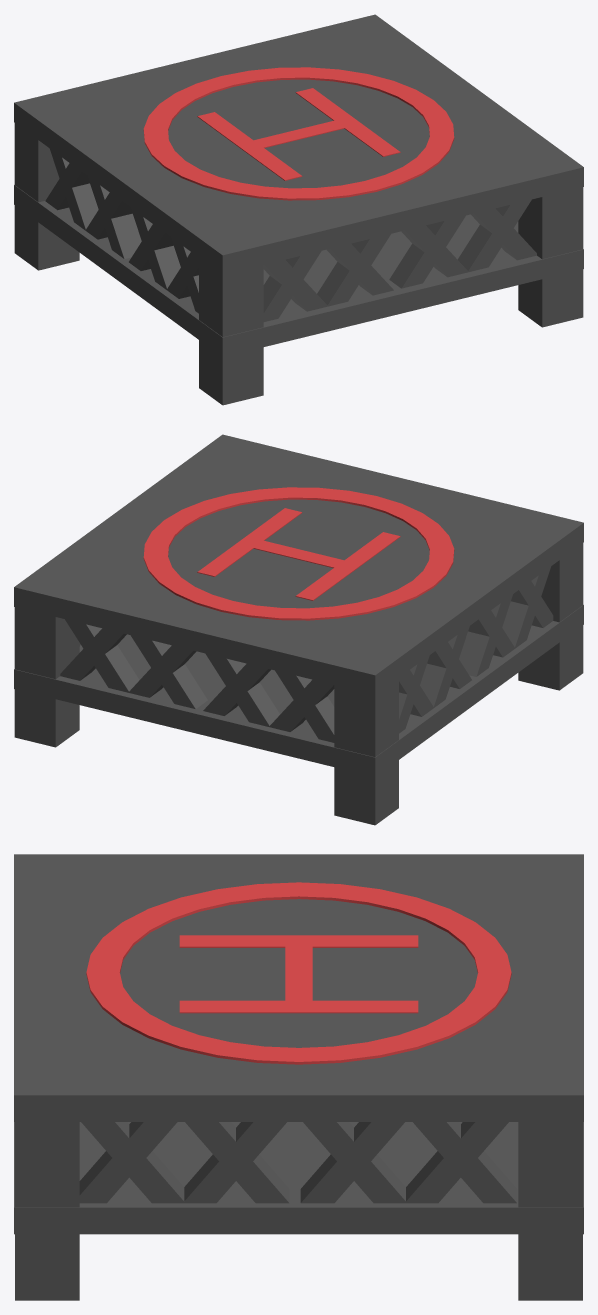
The model's file is LaunchPad.fbx.
3 views of the same model, one above another, from view 1: azimuth 30°, elevation 25°; view 2: azimuth 150°, elevation 25°; view 3: azimuth 270°, elevation 25° (orthographic). The views are drawn at different scales.
Visible parts, largest first — view 1: Cube; view 2: Cube; view 3: Cube.
Boxes of the visible parts, left/top/right/bottom form: Cube: left=14, top=14, right=583, bottom=405; Cube: left=14, top=434, right=583, bottom=825; Cube: left=14, top=854, right=583, bottom=1300.
Size of the model in its own units: 200 by 80.67 by 200.
